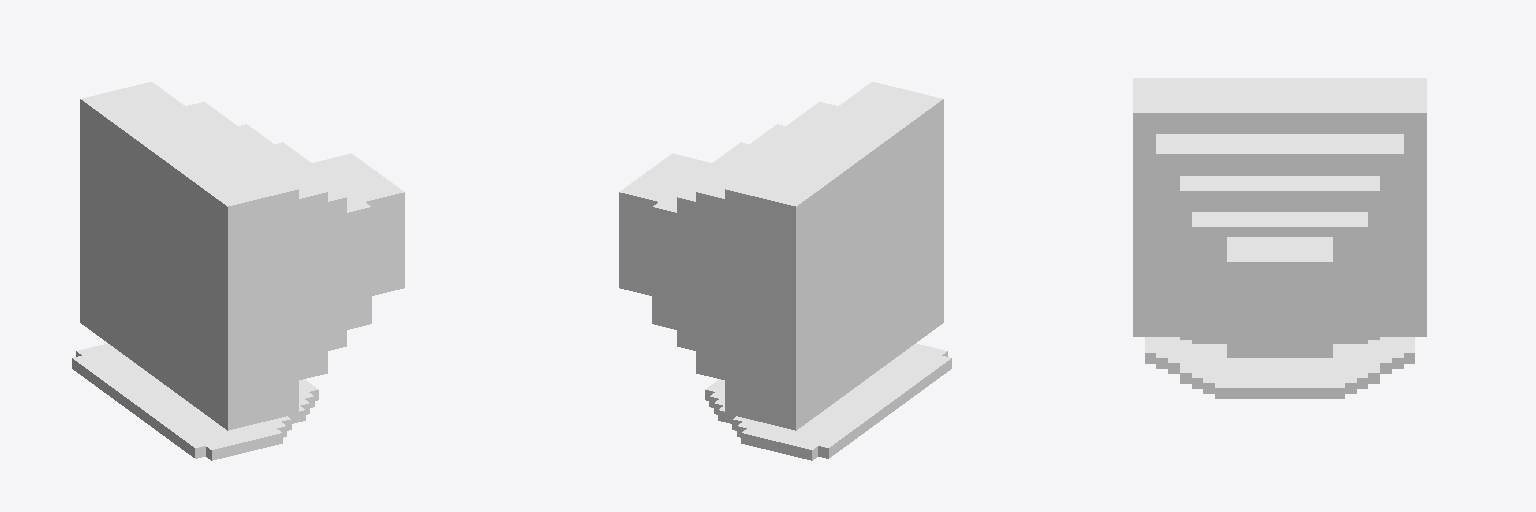
File: screenCatodic.obj
3 renders of one model, left to right at view 1: azimuth 30°, elevation 25°; view 2: azimuth 150°, elevation 25°; view 3: azimuth 270°, elevation 25°, orthographic.
Parts seen in each view (by area): view 1: screenCatodic; view 2: screenCatodic; view 3: screenCatodic.
Part boxes in pixels (x1,y1,x2,y2): screenCatodic: (72, 82, 404, 460); screenCatodic: (619, 82, 951, 460); screenCatodic: (1133, 78, 1426, 398).
Size of the model in its own units: 24 by 24 by 25.